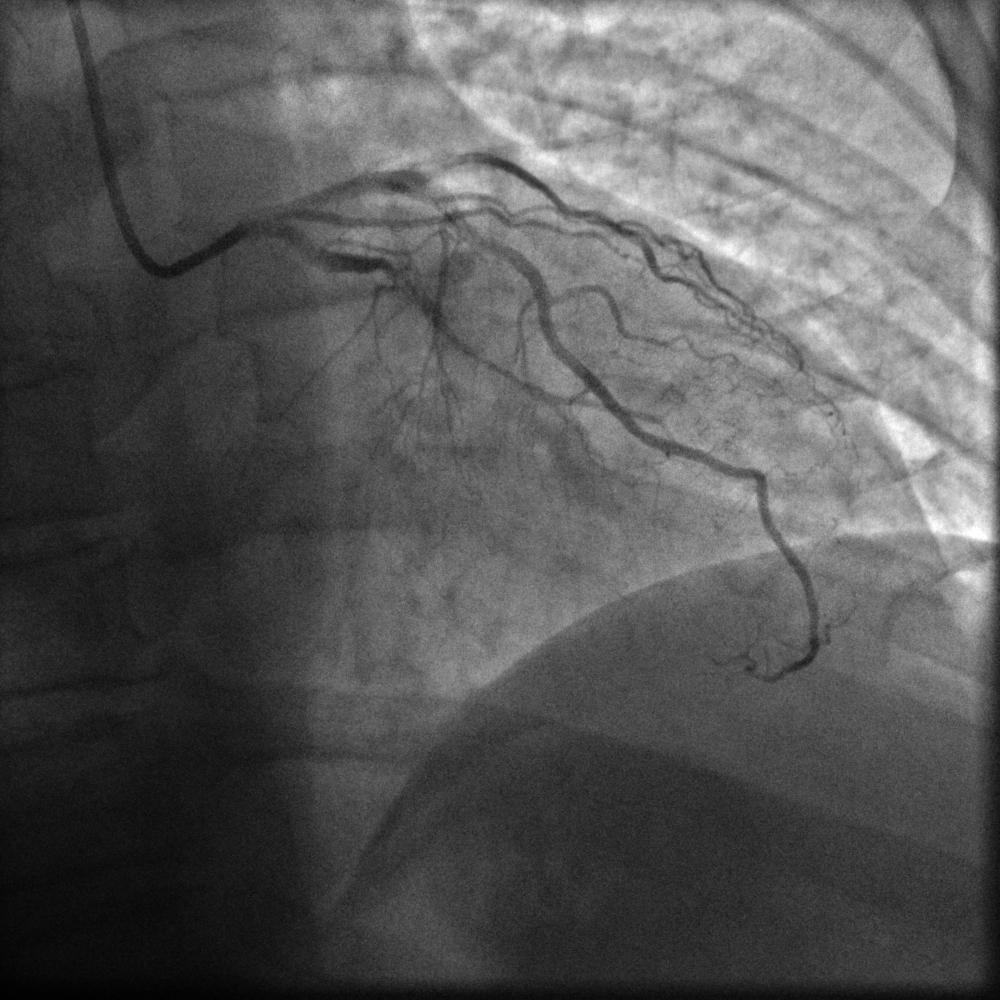Stenosis: (378, 258, 423, 313)
